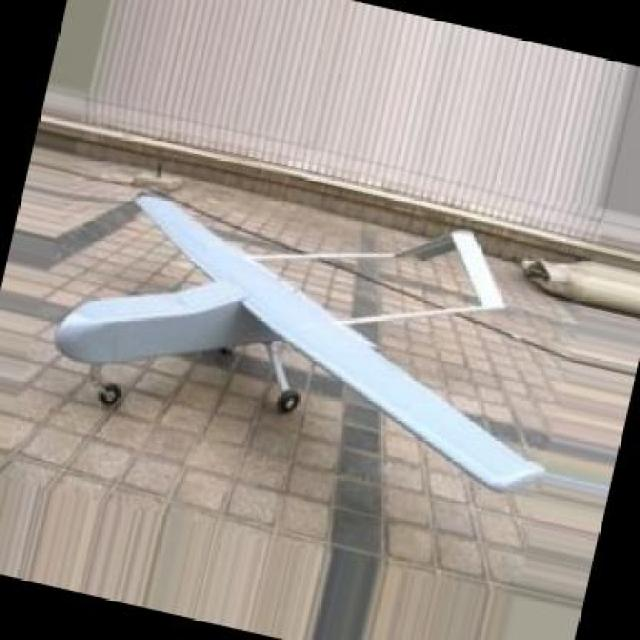iha: (51, 179, 557, 500)
